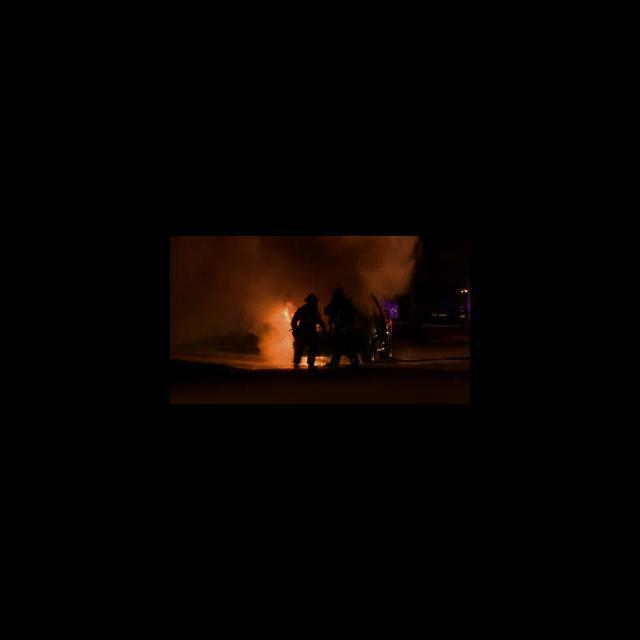Fire: (280, 305, 294, 322)
Smoke: (170, 238, 274, 335), (333, 237, 418, 290), (258, 330, 290, 368)
